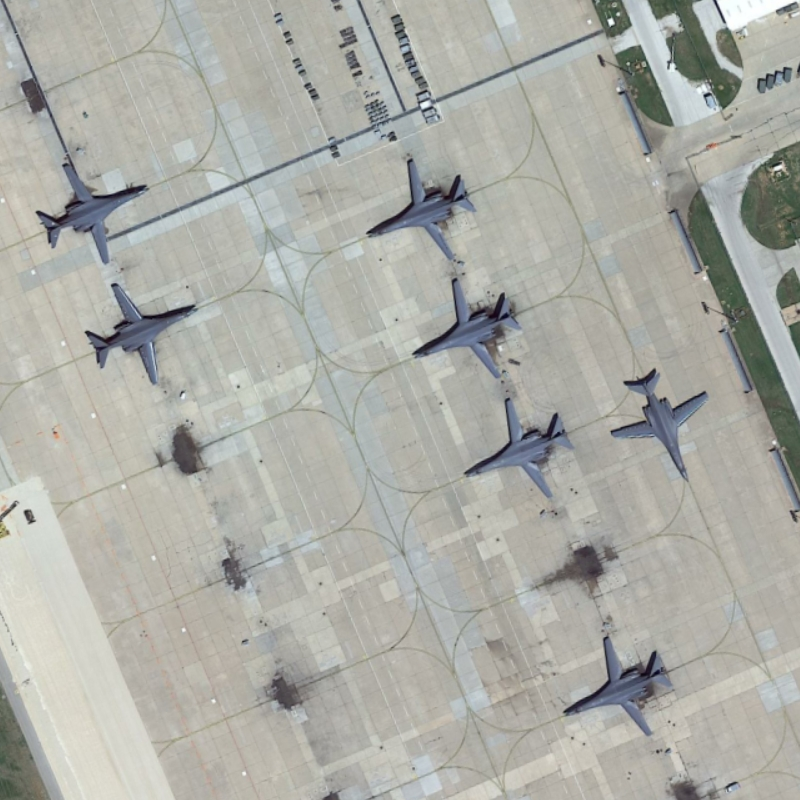A10: (347, 152, 494, 266), (557, 622, 692, 745), (444, 394, 582, 508), (82, 278, 219, 388), (402, 272, 537, 382), (606, 364, 724, 485), (35, 155, 154, 266)
